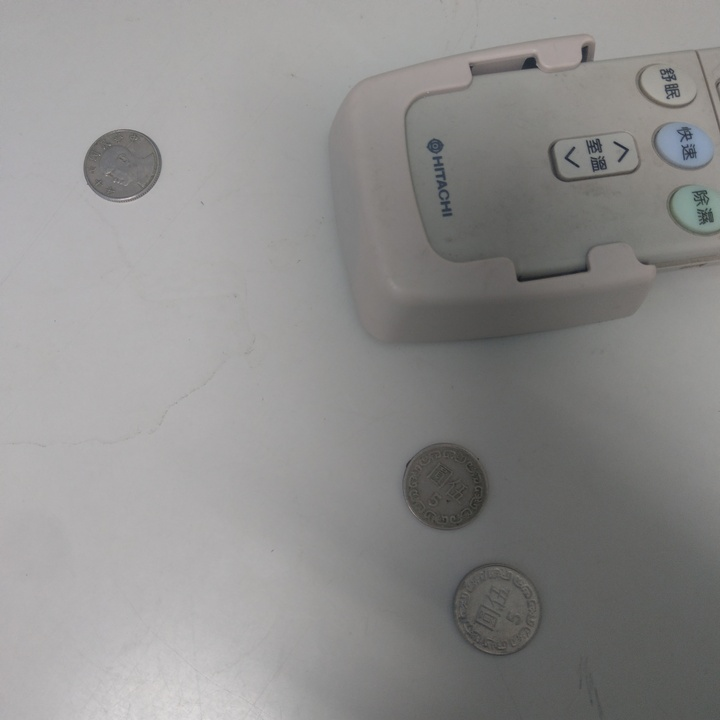5 dollar: (447, 564, 542, 656), (403, 441, 487, 531), (83, 126, 164, 205)
